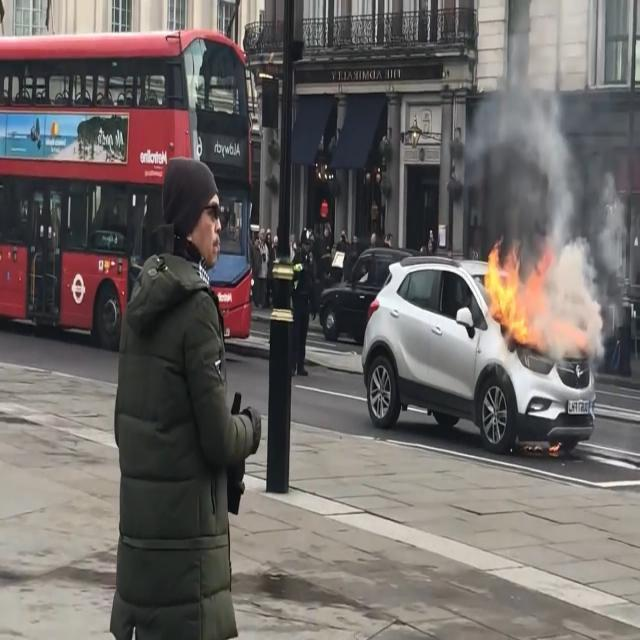fire: (486, 234, 596, 356)
